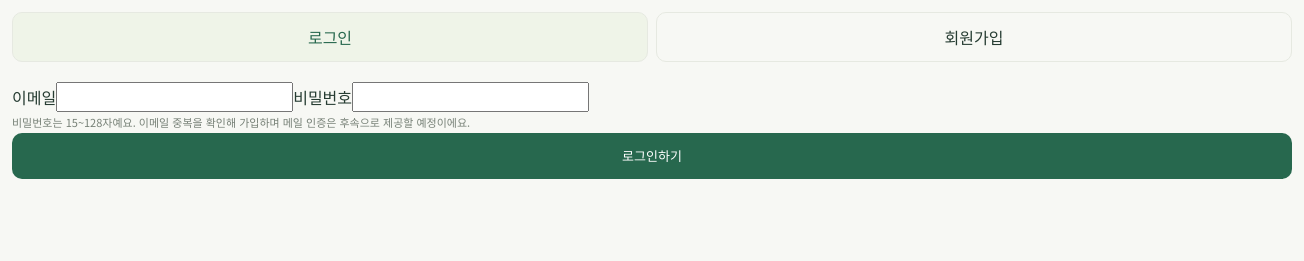
실제 계정 폼 › 비밀번호 검증 오류에 조건과 해당 필드를 안내한다
Expected: the field labelled "이메일" is enabled, [56,82,293,112]
Click the button "회원가입".
click(974, 37)  # box [656,12,1292,62]
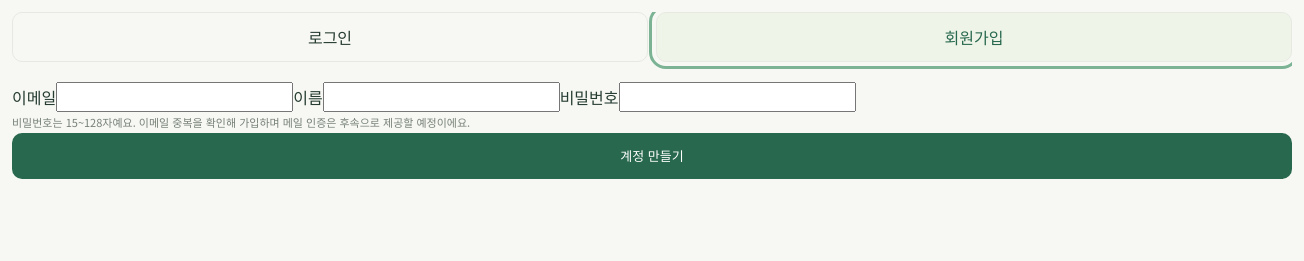
Type "test@example.invalid" into the field labelled "이메일".
click(175, 97); type("test@example.invalid")  # box [56,82,293,112]
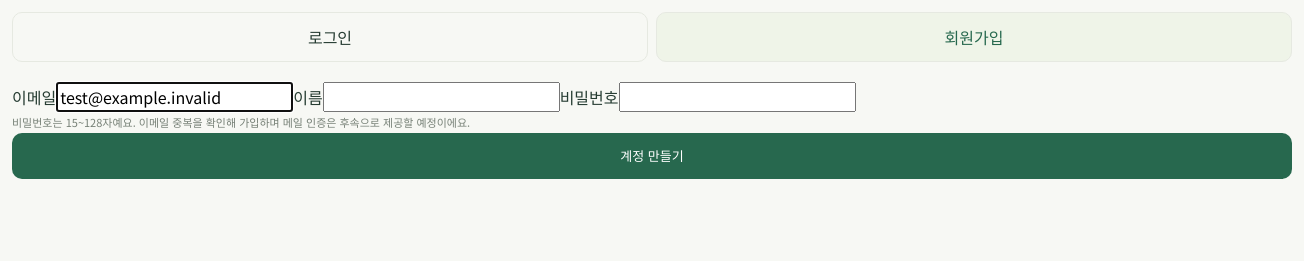
Type "테스트" into the field labelled "이름".
click(441, 97); type("테스트")  # box [323,82,560,112]
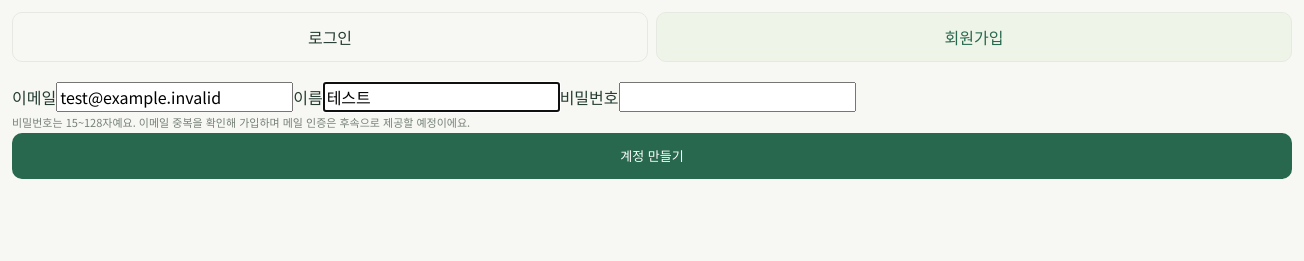
Type "passwordpassword" into the password field labelled "비밀번호".
click(737, 97); type("passwordpassword")  # box [618,82,856,112]
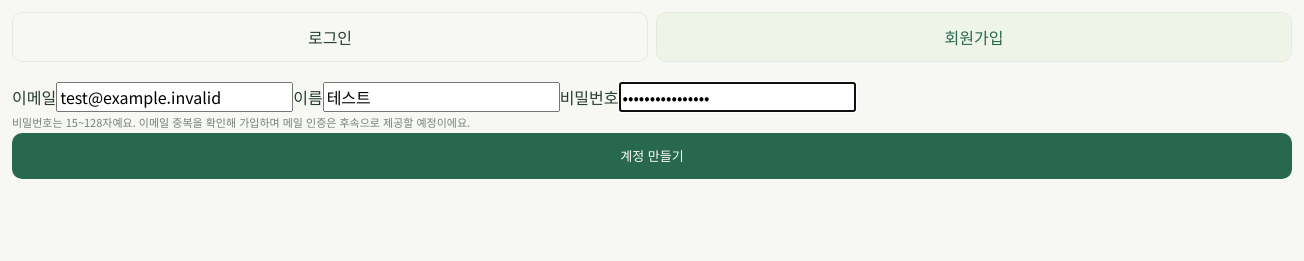
Click the button "계정 만들기".
click(652, 156)  # box [12,133,1292,179]
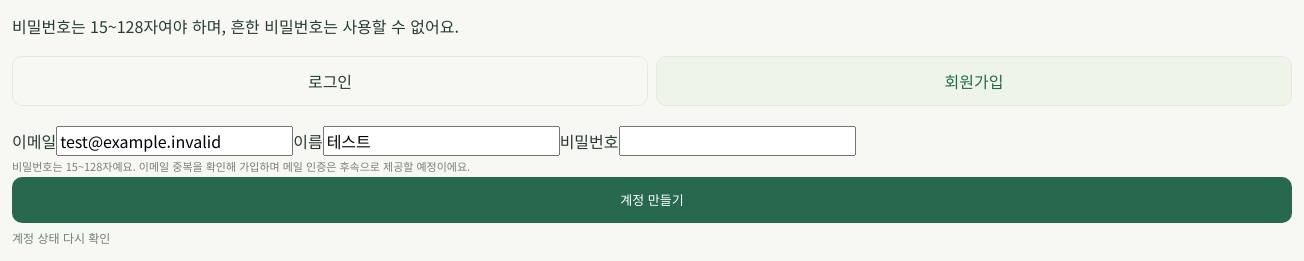
Expected: the text "비밀번호는 15~128자여야 하며, 흔한 비밀번호는 사용할 수 없어요." is shown, [12,14,459,38]
